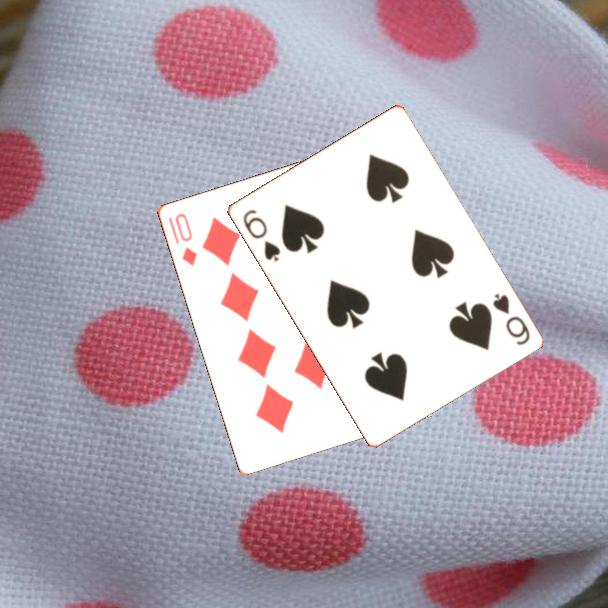d10: (171, 209, 200, 269)
s06: (239, 206, 283, 265), (489, 289, 533, 348)
